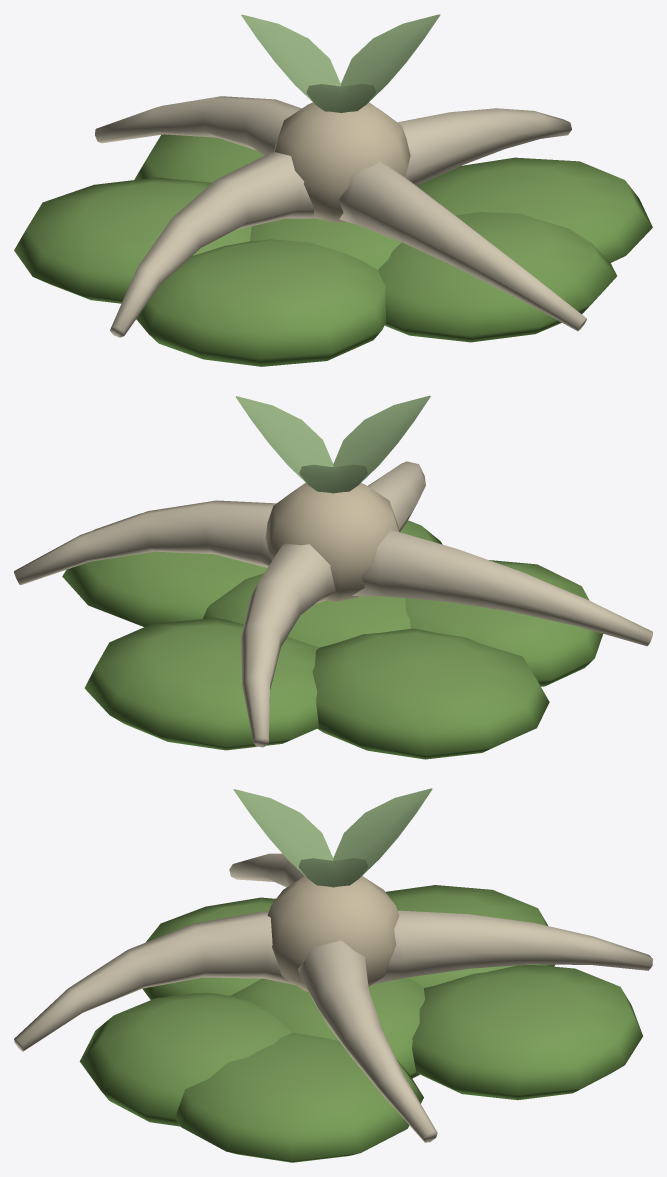
Rendered from ing_hollow_root.glb.
3 renders of one model, top to bottom at view 1: azimuth 30°, elevation 25°; view 2: azimuth 150°, elevation 25°; view 3: azimuth 270°, elevation 25°, orthographic.
Visible parts, largest first — view 1: ing_hollow_root; view 2: ing_hollow_root; view 3: ing_hollow_root.
Boxes of the visible parts, box(x1,y1,x2,y2) form: ing_hollow_root: box(14, 14, 652, 366); ing_hollow_root: box(14, 395, 652, 759); ing_hollow_root: box(14, 788, 652, 1162).
Size of what is drawn, in the model's own units: 0.498 by 0.1933 by 0.497.
